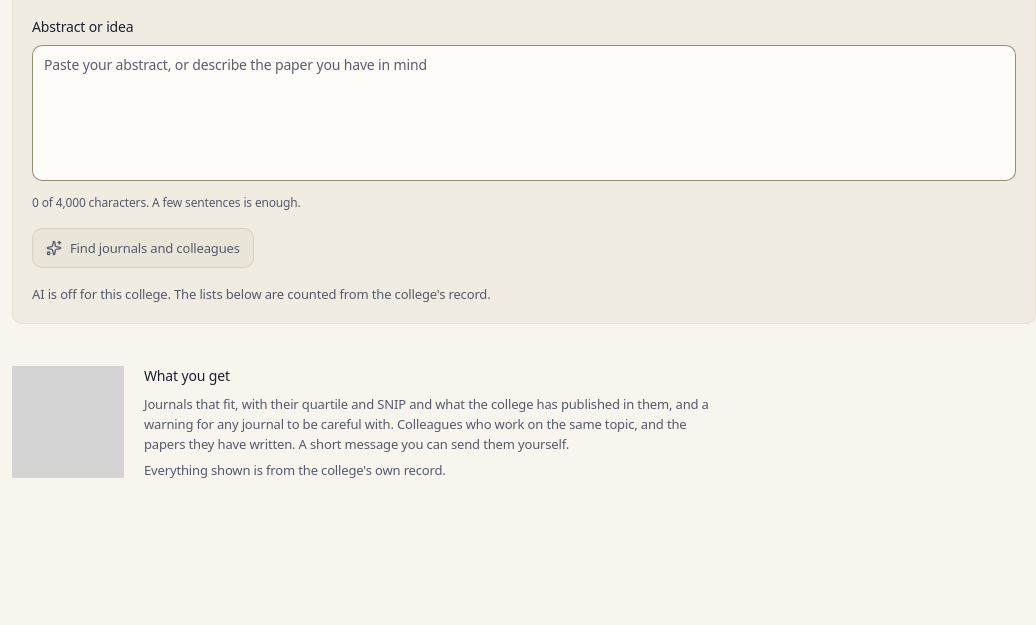
Test: Research helper: the lists › says so when nothing at the college matches
Step 1. Type "We design a maximum power point tracking controller for photovoltaic arrays under partial shading." into the text box labelled "Abstract or idea" → (524, 113), box [32, 45, 1016, 181]
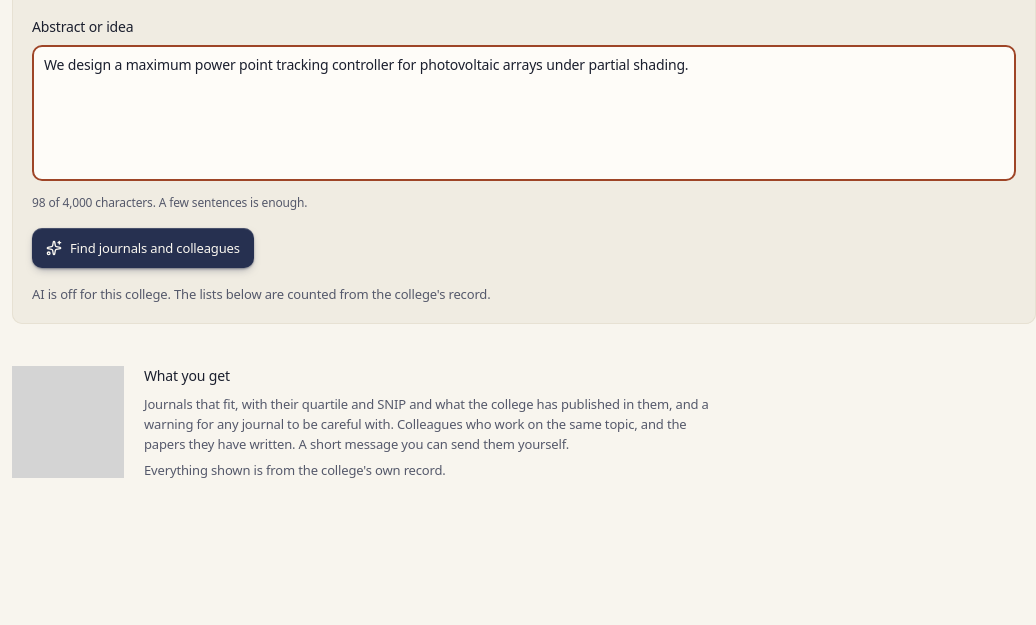
Step 2. Click the button "Find journals and colleagues" → (143, 248), box [32, 228, 254, 268]
(page scrolled)
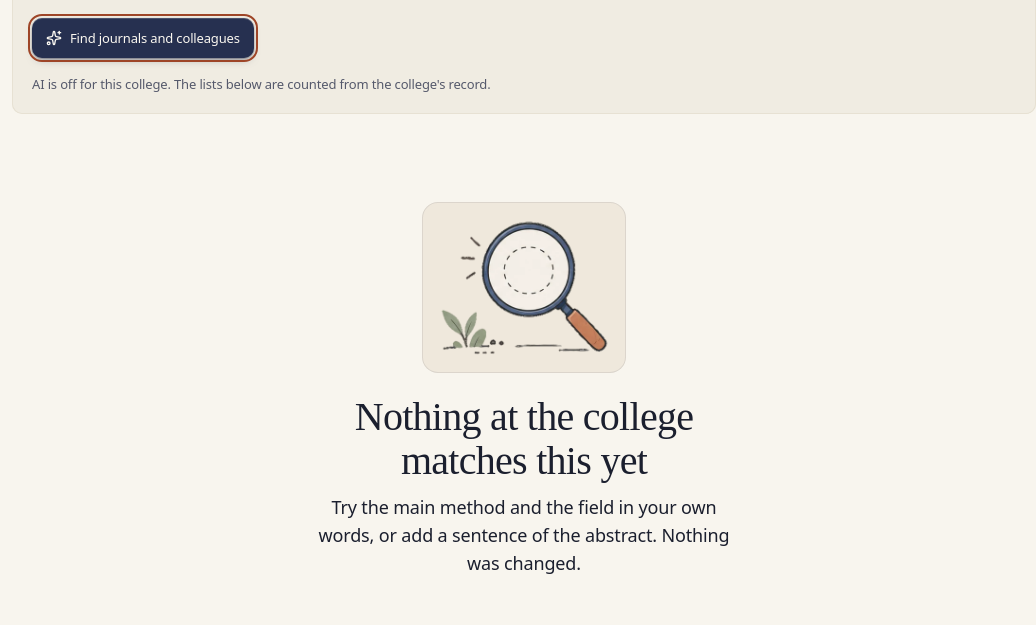
Expected: the text "Nothing at the college matches this yet" is shown, [355, 394, 693, 483]
